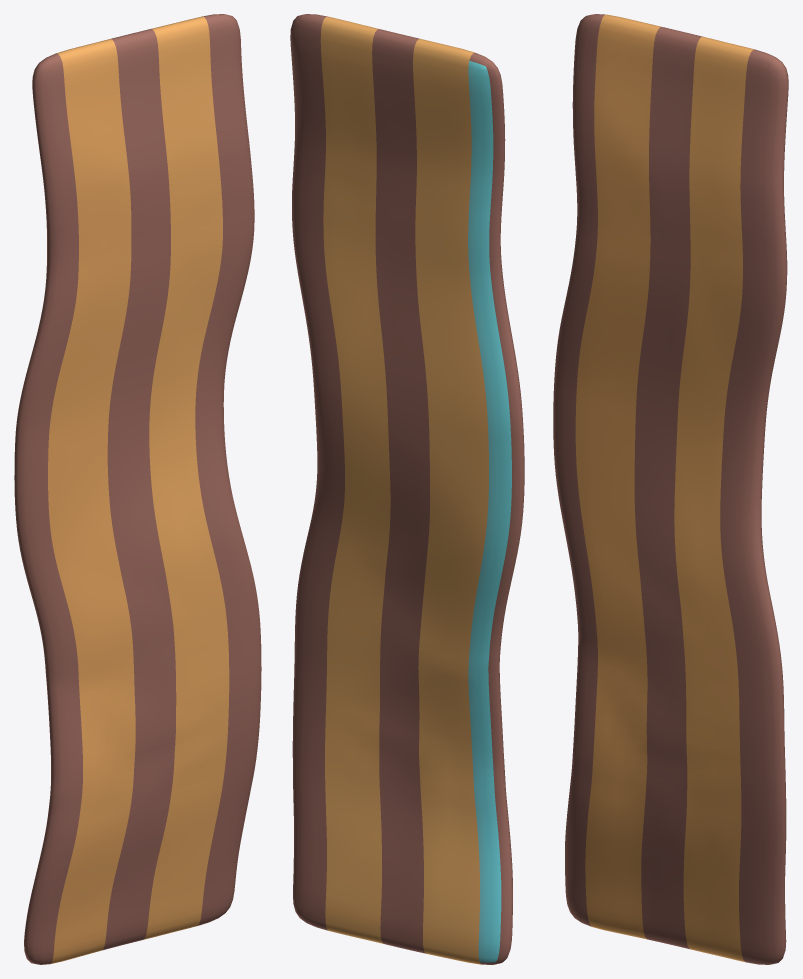
The model's file is Bacon.fbx.
3 renders of one model, left to right at view 1: azimuth 30°, elevation 25°; view 2: azimuth 150°, elevation 25°; view 3: azimuth 330°, elevation 25°, orthographic.
Visible parts, largest first — view 1: Bacon; view 2: Bacon; view 3: Bacon.
Boxes of the visible parts, x1=… form: Bacon: x1=14, y1=14, x2=261, y2=964; Bacon: x1=290, y1=14, x2=524, y2=964; Bacon: x1=553, y1=14, x2=788, y2=964.
Bounding box in the file's own units: 156 × 570 × 29.86.
